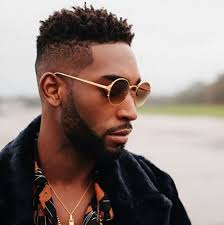black_male: (19, 9, 164, 167)
